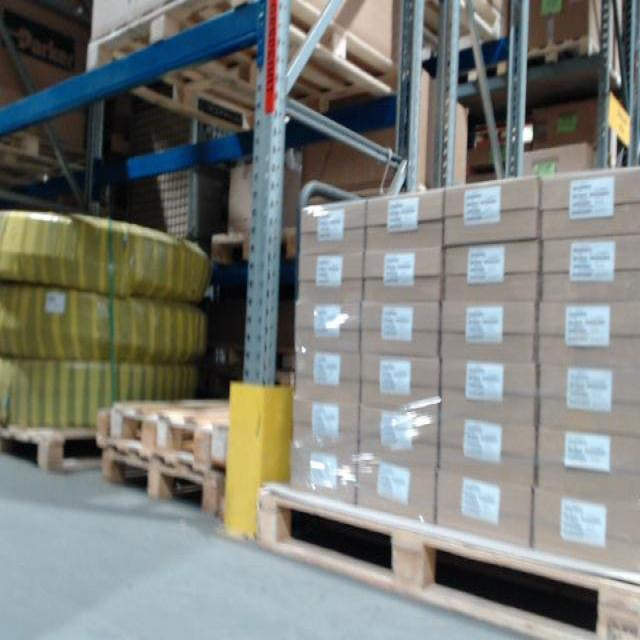pallet: (250, 481, 640, 640), (84, 0, 404, 131), (96, 399, 232, 467), (96, 453, 223, 512), (526, 37, 629, 87), (0, 128, 85, 188), (0, 420, 103, 468), (211, 225, 298, 266)
stillage: (95, 95, 268, 263)
